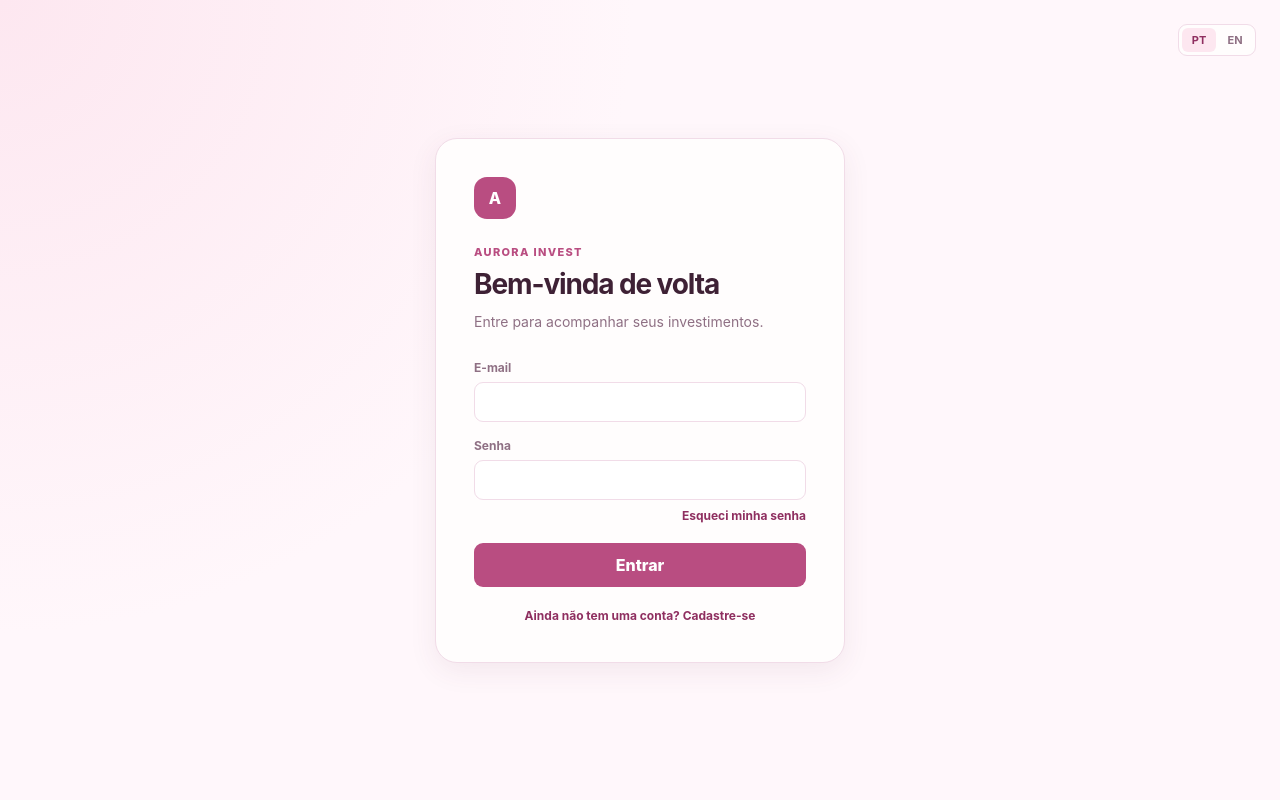
Test: switches the authentication page between Portuguese and English
Expected: the heading "Bem-vinda de volta" is shown, [474, 266, 719, 300]
Click the button "EN": (1235, 40) [1218, 28, 1252, 52]
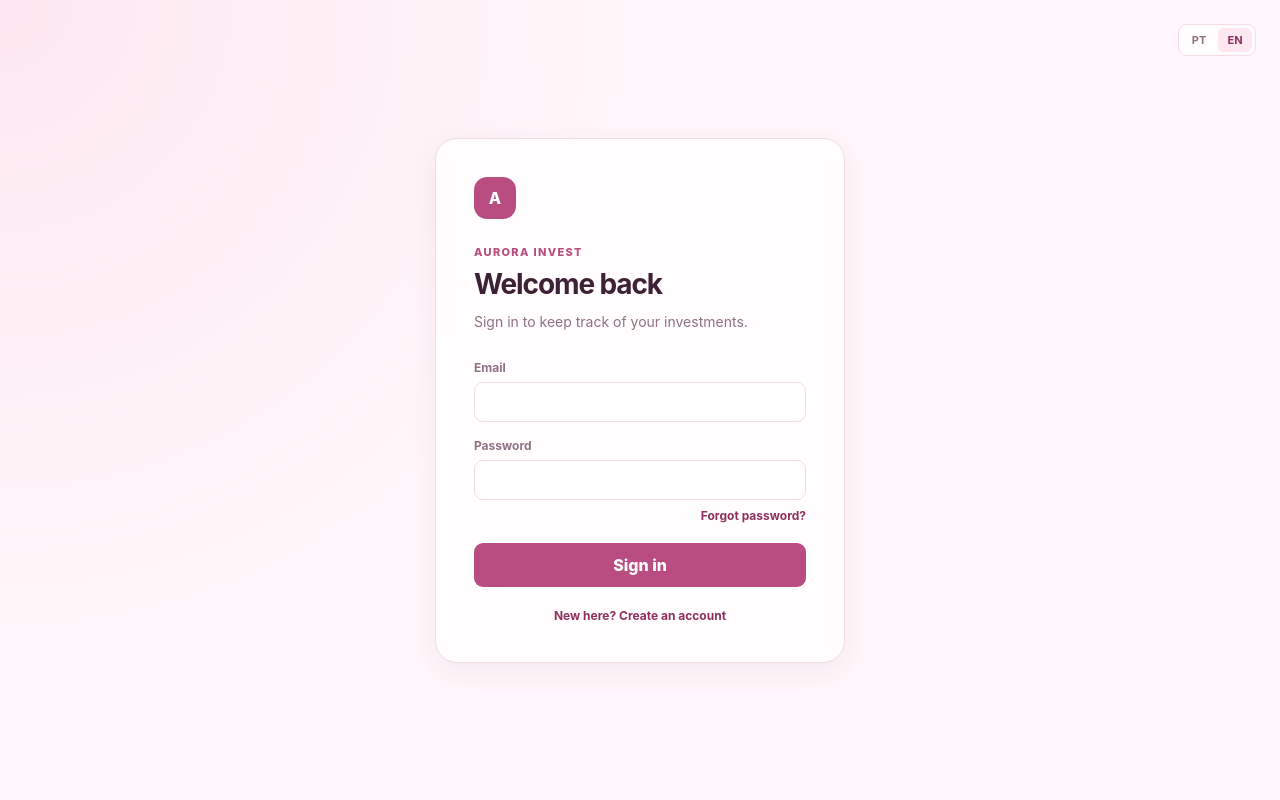
Expected: the heading "Welcome back" is shown, [474, 266, 662, 300]
Expected: the button "Sign in" is shown, [474, 542, 806, 586]
